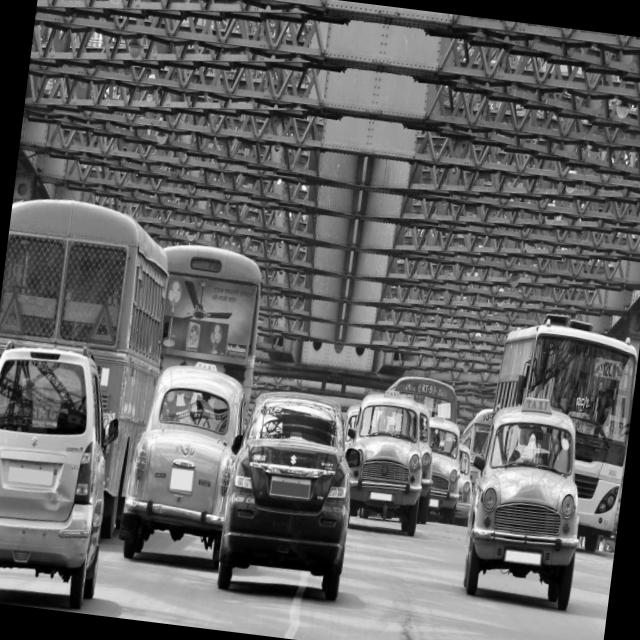bus: (0, 198, 166, 533), (496, 315, 638, 551), (159, 244, 261, 407), (390, 376, 458, 421), (461, 408, 493, 461)
car: (217, 392, 349, 600), (0, 345, 104, 608), (118, 362, 244, 568), (464, 397, 579, 611), (346, 389, 427, 535), (429, 415, 460, 524), (455, 443, 471, 525)
